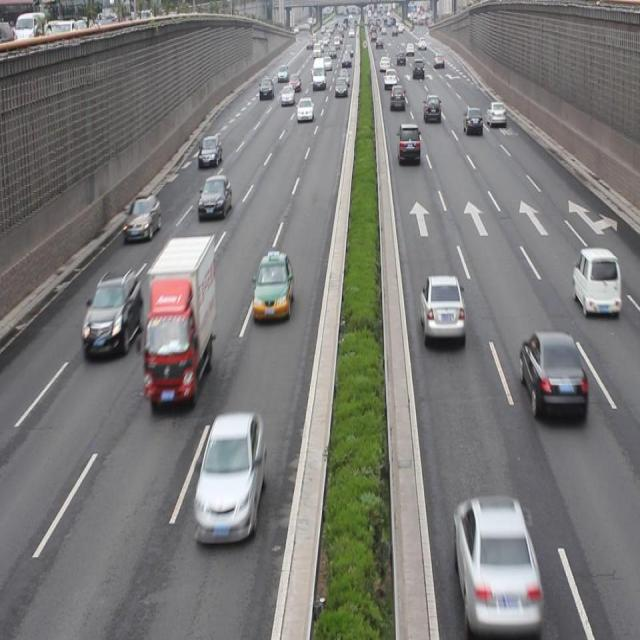bus: (143, 234, 215, 410)
car: (453, 492, 540, 622), (192, 410, 264, 542), (519, 330, 587, 423), (82, 268, 140, 355), (418, 274, 466, 342), (572, 245, 619, 313), (252, 250, 293, 322), (123, 192, 161, 242), (197, 174, 232, 221), (397, 123, 420, 167), (198, 134, 222, 167), (422, 94, 441, 124), (463, 106, 482, 135), (485, 100, 505, 126)
